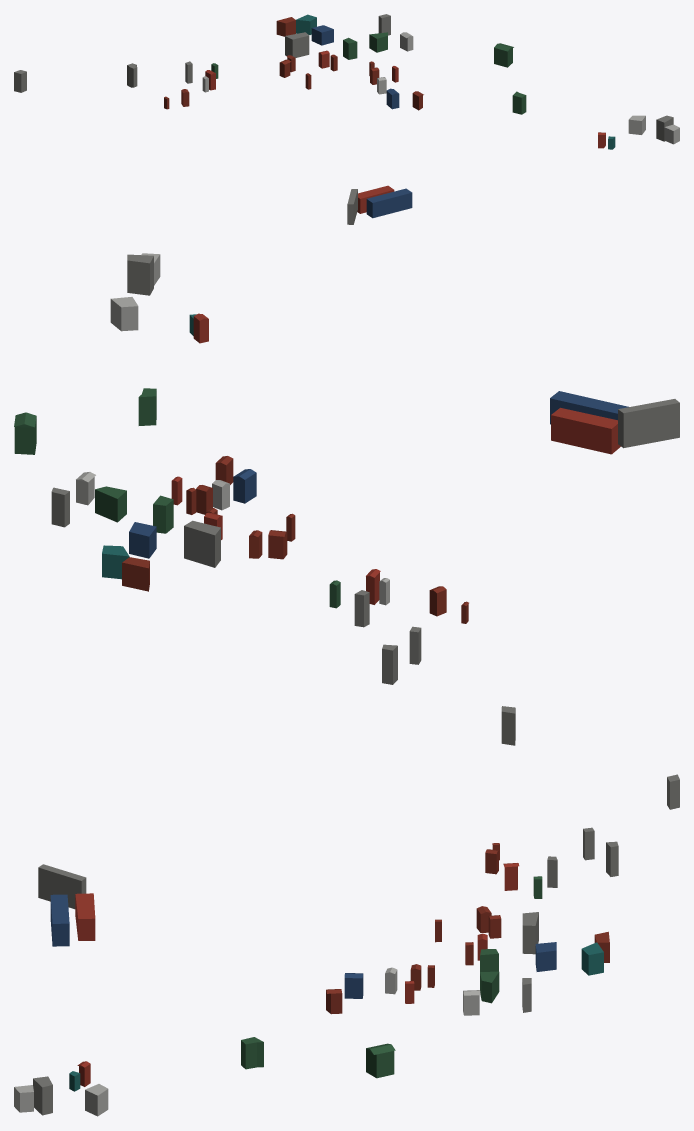
Rendered from near-15-27349-14882.9e62ded5.glb.
The picture shows the model from 3 angles, top to bottom: view 1: azimuth 30°, elevation 25°; view 2: azimuth 150°, elevation 25°; view 3: azimuth 270°, elevation 25°; orthographic projection. The views are drawn at different scales.
Size of the model in its own units: 553 by 50.9 by 487.
